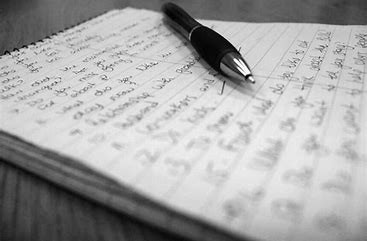pen: (159, 2, 255, 83)
